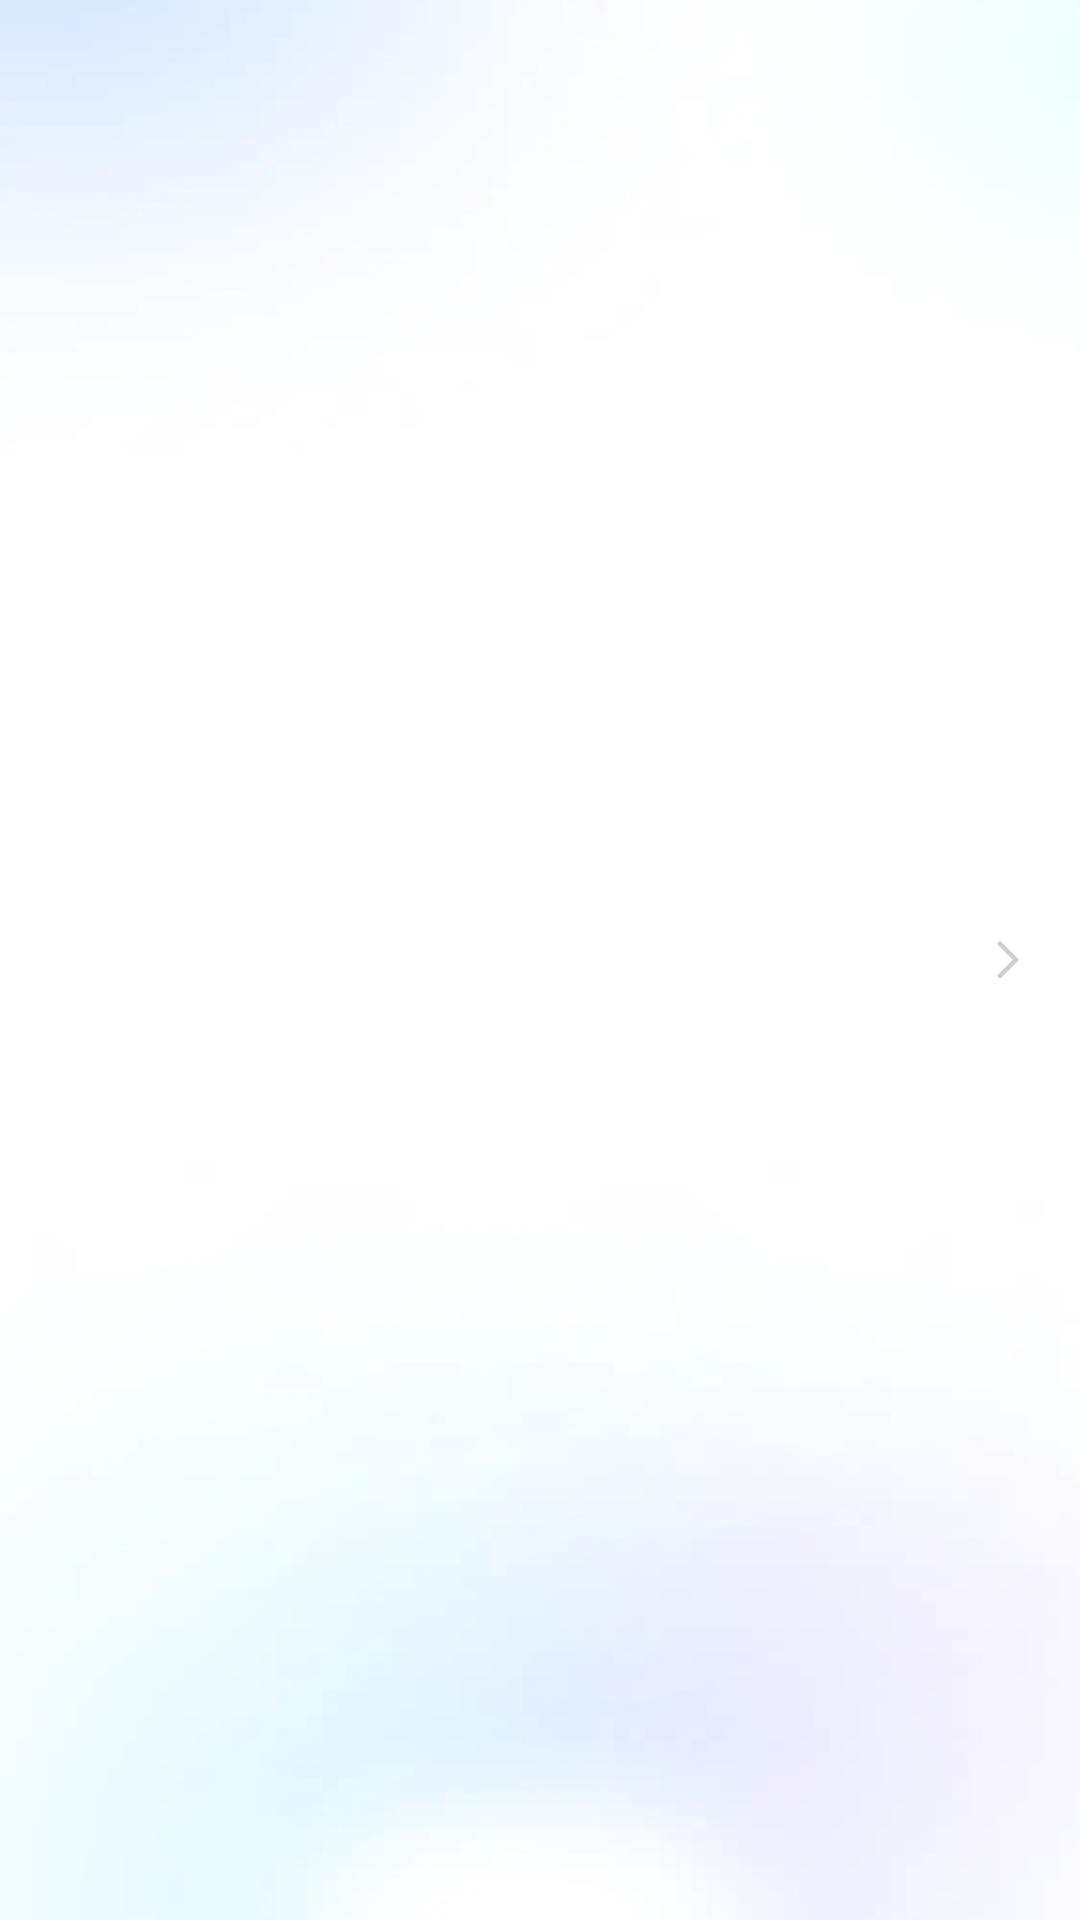

Screen size 1080x1920. Icon name, then its box in pixels as (x1,y1,x2,y2):
right arrow: (997,941,1018,978)
